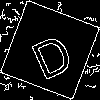D: (25, 25, 76, 81)
